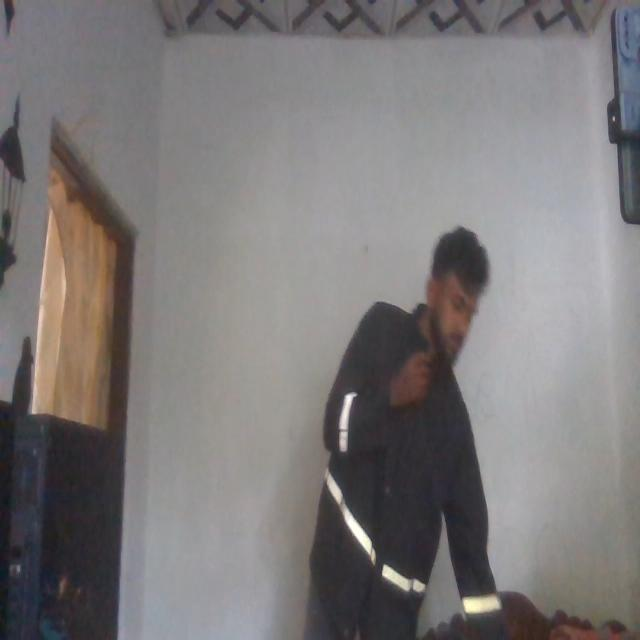Jacket_Wearer: (314, 290, 502, 634)
Person: (310, 210, 498, 640)
